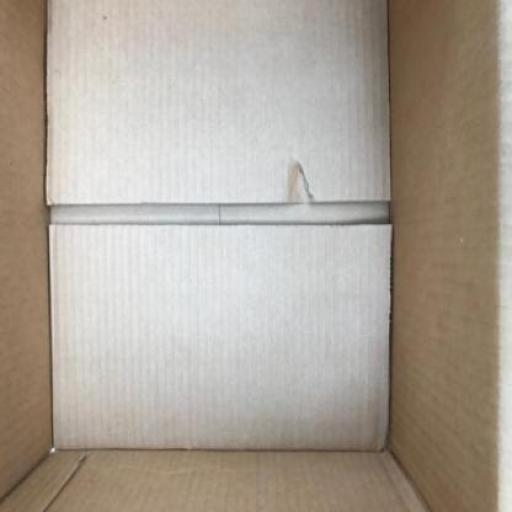cardboard: (0, 0, 511, 511), (44, 222, 390, 449), (43, 0, 391, 207)
